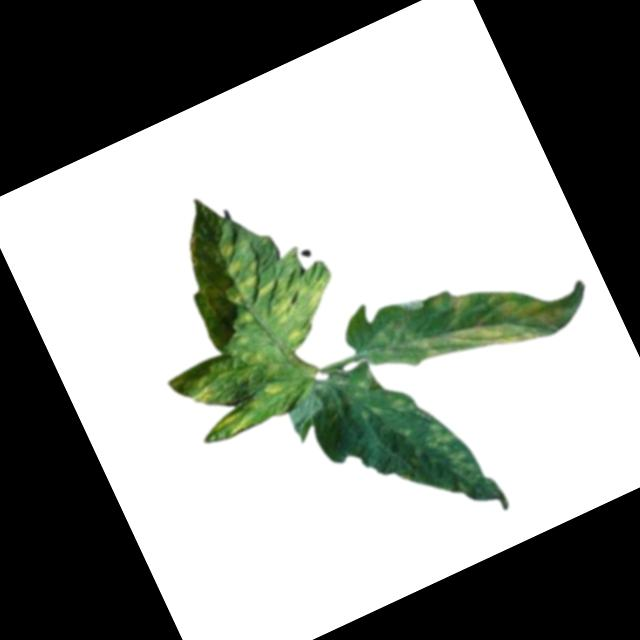Leaf_Mold: (100, 159, 359, 419), (396, 247, 574, 391), (413, 409, 487, 503), (209, 397, 268, 443)
